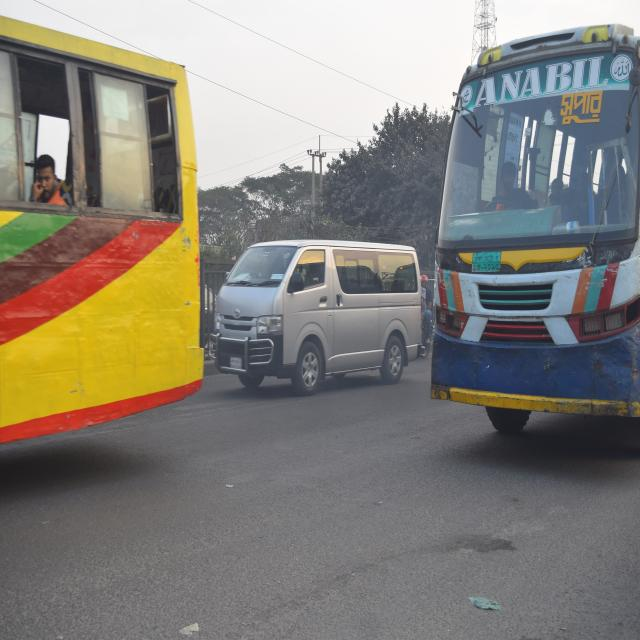bus: (427, 0, 640, 440), (0, 37, 209, 446)
microbus: (215, 224, 424, 406)
